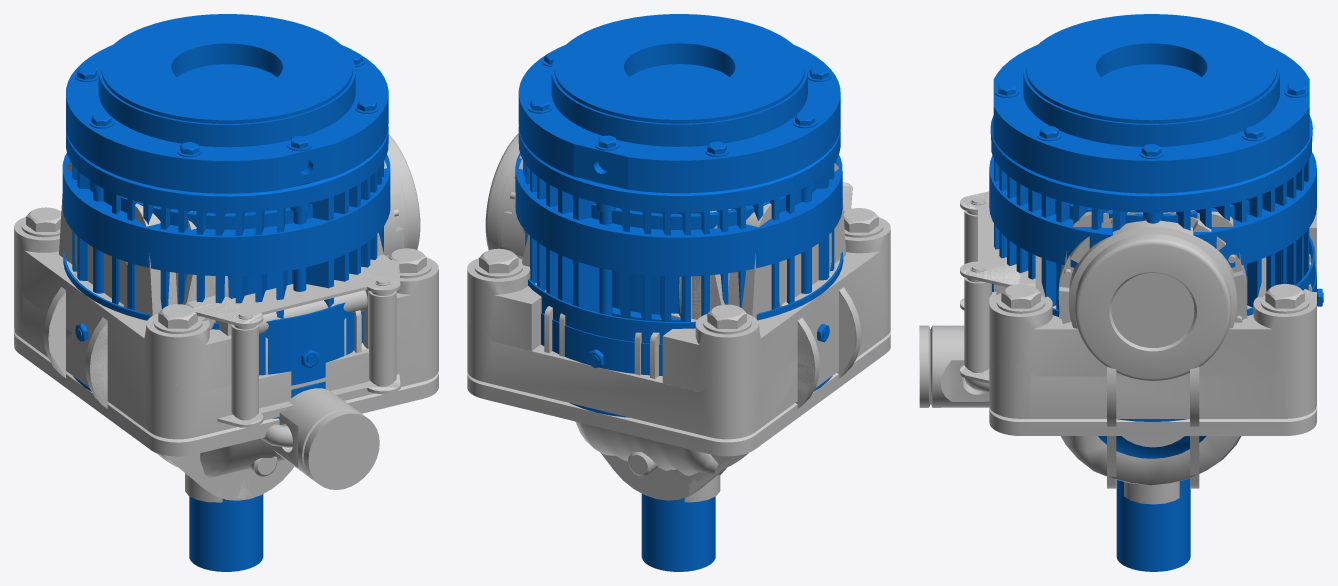
The model's file is sandbox_hydraulics.fbx.
3 views of the same model, side by side, from view 1: azimuth 30°, elevation 25°; view 2: azimuth 150°, elevation 25°; view 3: azimuth 270°, elevation 25° (orthographic).
Parts seen in each view (by area): view 1: hydraulic_base_LOD0, hinge_base_LOD0, axle_base_LOD0, winch_base_LOD0, hook_LOD0, winch_ferrule_LOD0, suspension_end_LOD0, pulley_LOD0, pulley_phy, winch_rope_LOD0, winch_base_phy; view 2: hydraulic_base_LOD0, hinge_base_LOD0, axle_base_LOD0, hook_LOD0, winch_base_LOD0, suspension_end_LOD0, pulley_LOD0, winch_rope_LOD0, pulley_phy, winch_base_phy; view 3: hydraulic_base_LOD0, winch_base_LOD0, hinge_base_LOD0, hook_LOD0, axle_base_LOD0, suspension_end_LOD0, winch_ferrule_LOD0, winch_rope_LOD0, pulley_LOD0, ball_LOD0, rope_eye_LOD0, winch_base_phy (+1 smaller).
Part boxes in pixels (x1,y1,x2,y2): hydraulic_base_LOD0: (63, 14, 388, 418); hinge_base_LOD0: (14, 160, 438, 456); axle_base_LOD0: (62, 153, 390, 387); winch_base_LOD0: (75, 134, 420, 427); hook_LOD0: (14, 274, 438, 456); winch_ferrule_LOD0: (261, 388, 379, 489); suspension_end_LOD0: (189, 494, 263, 571); pulley_LOD0: (43, 272, 294, 500); pulley_phy: (49, 293, 252, 498); winch_rope_LOD0: (151, 438, 284, 477); winch_base_phy: (176, 222, 399, 423); hydraulic_base_LOD0: (518, 14, 843, 386); hinge_base_LOD0: (467, 159, 890, 456); axle_base_LOD0: (515, 153, 842, 417); hook_LOD0: (467, 277, 890, 454); winch_base_LOD0: (485, 133, 852, 319); suspension_end_LOD0: (641, 494, 715, 571); pulley_LOD0: (601, 273, 861, 500); winch_rope_LOD0: (575, 421, 727, 475); pulley_phy: (656, 293, 855, 498); winch_base_phy: (522, 182, 851, 319); hydraulic_base_LOD0: (990, 14, 1315, 421); winch_base_LOD0: (960, 191, 1266, 383); hinge_base_LOD0: (989, 208, 1316, 435); hook_LOD0: (989, 351, 1316, 435); axle_base_LOD0: (989, 152, 1323, 421); suspension_end_LOD0: (1116, 479, 1190, 571); winch_ferrule_LOD0: (919, 325, 989, 407); winch_rope_LOD0: (1061, 436, 1241, 485); pulley_LOD0: (1107, 366, 1199, 488); ball_LOD0: (1098, 436, 1206, 458); rope_eye_LOD0: (1124, 481, 1179, 504); winch_base_phy: (960, 192, 1020, 379).
Size of what is drawn, in the model's own units: 14.8 by 13.5 by 19.78.
